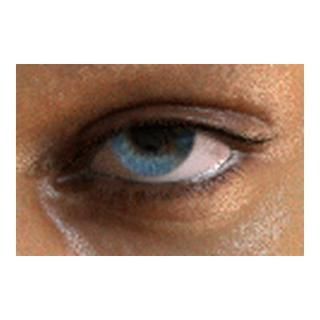pupil: (133, 113, 169, 149)
